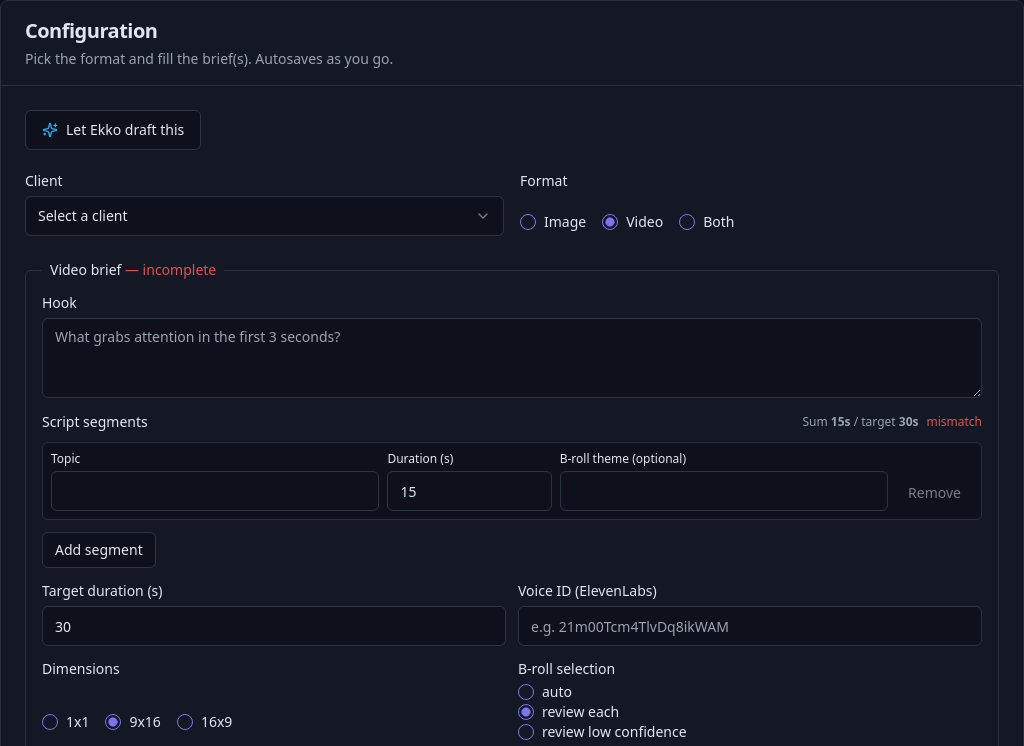
Test: StageConfiguration - video segments › renders an Add segment button + creates a new segment row on click
Check: the field labelled "Topic" is shown, box 51,471 -> 379,511
Click the button "Add segment".
click(99, 550)  # box 42,532 -> 156,568
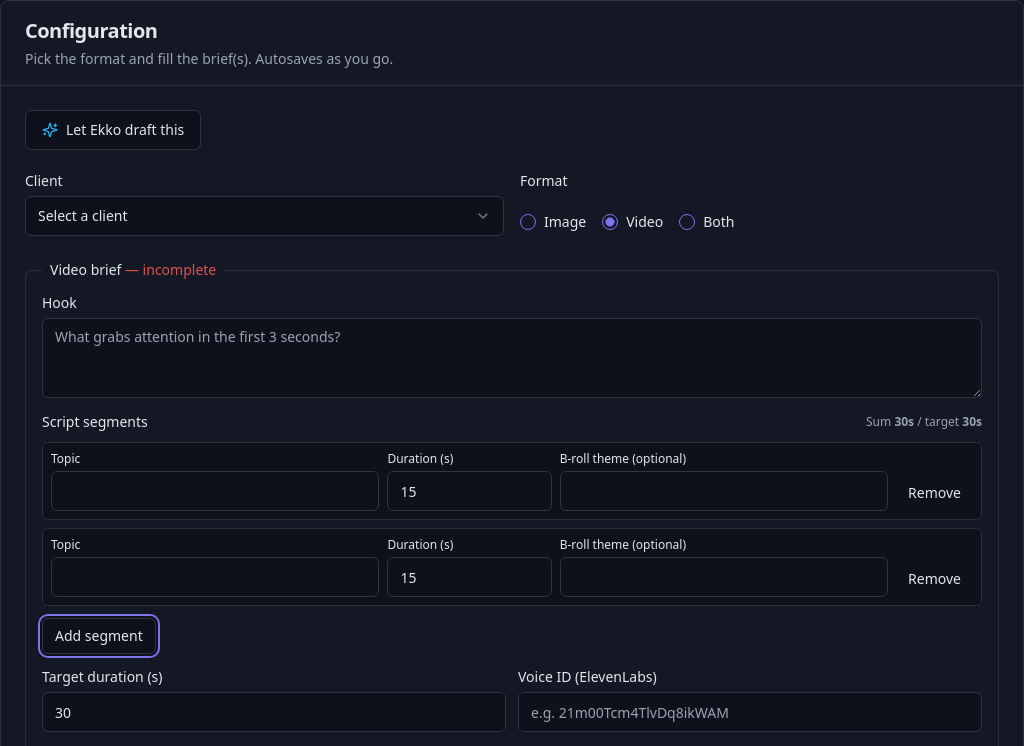
Check: the number of fields labelled "Topic" is 2, box 51,471 -> 379,511; 51,557 -> 379,597
